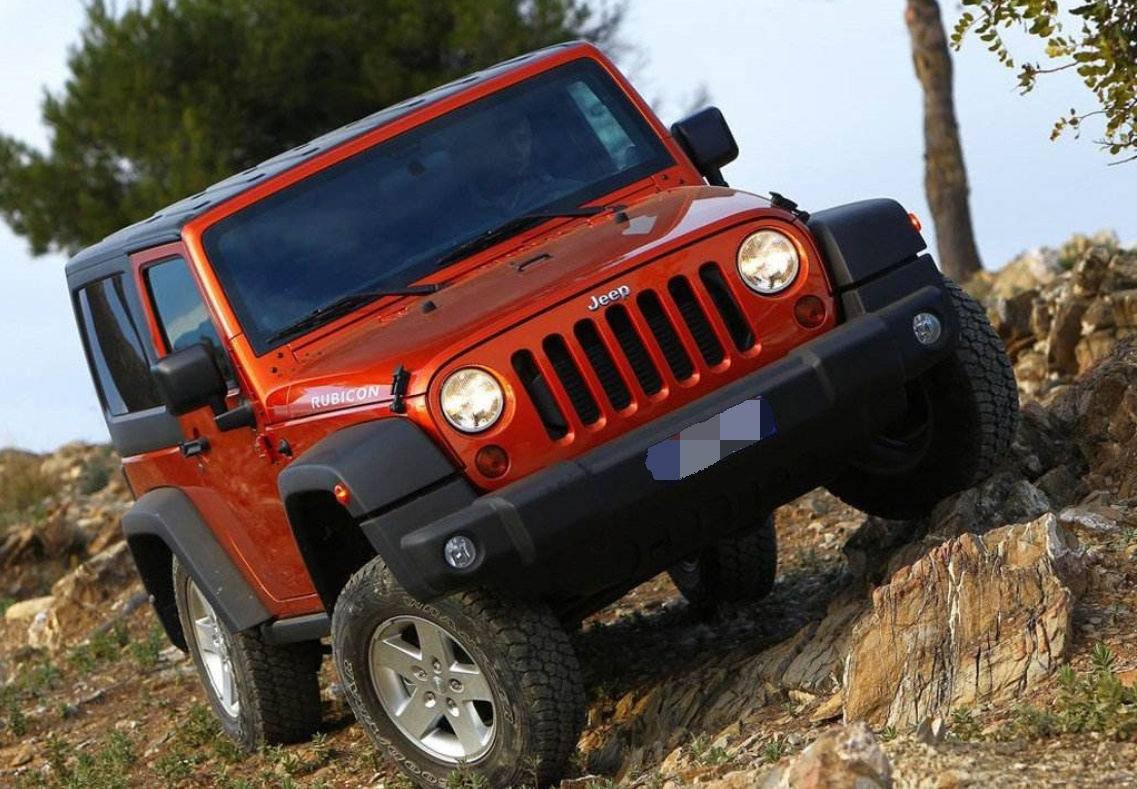jeep: (59, 70, 1001, 758)
